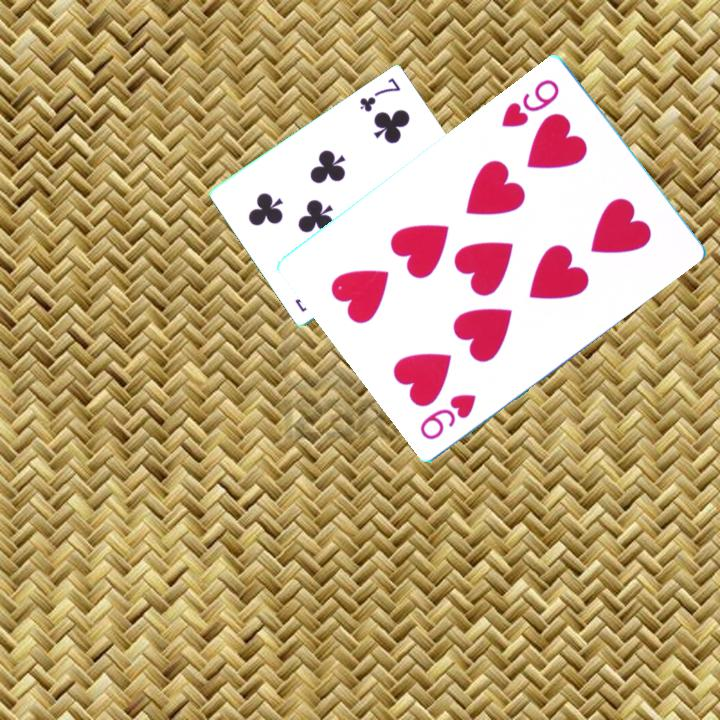7c: (356, 74, 404, 115)
9h: (497, 74, 563, 130), (416, 389, 479, 443)
